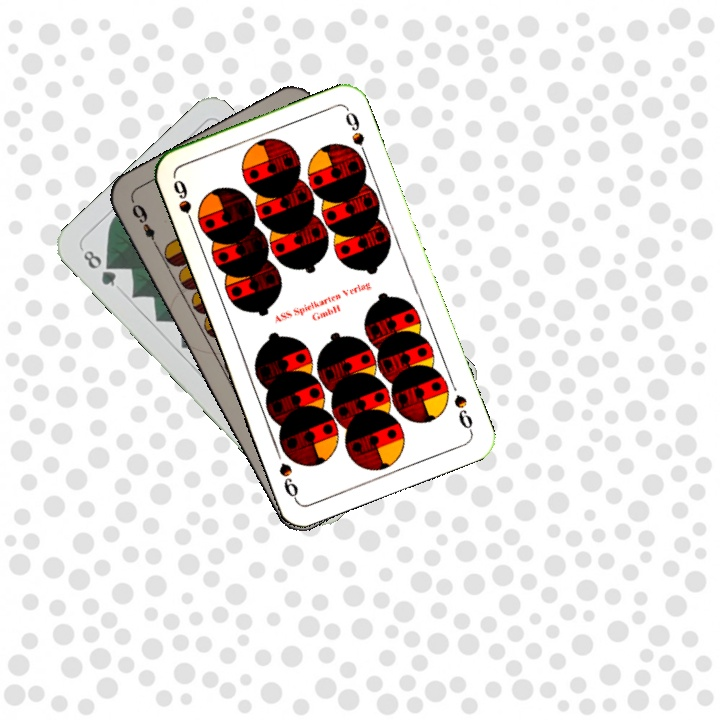E9: (127, 199, 162, 252)
G8: (79, 245, 119, 290)
S9: (169, 175, 198, 231), (449, 390, 476, 435)
